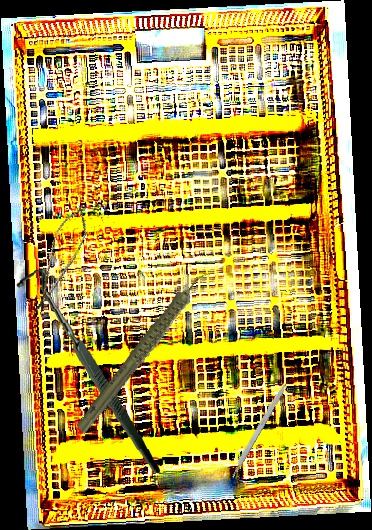Handpiece: (49, 268, 241, 436)
Hook Surgical: (13, 262, 162, 483)
Micro Scissor: (25, 200, 96, 320)
Scalpel Handle: (227, 379, 290, 480)
